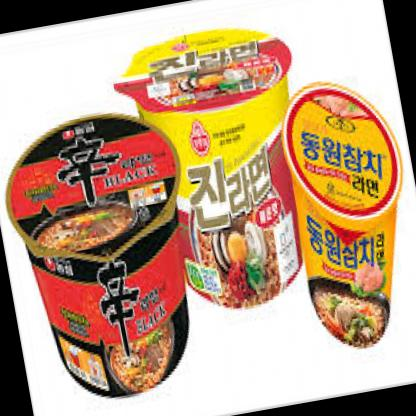Ramen: (122, 17, 328, 318), (0, 101, 206, 400), (278, 67, 416, 357)
